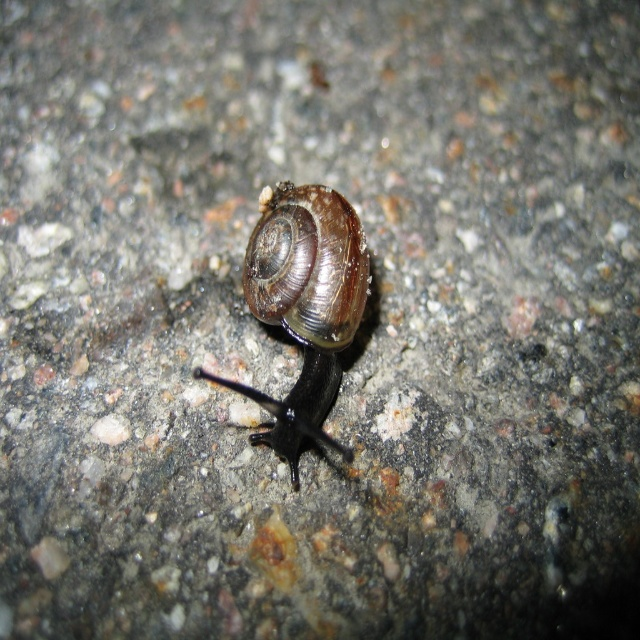Snail: (190, 178, 372, 493)
